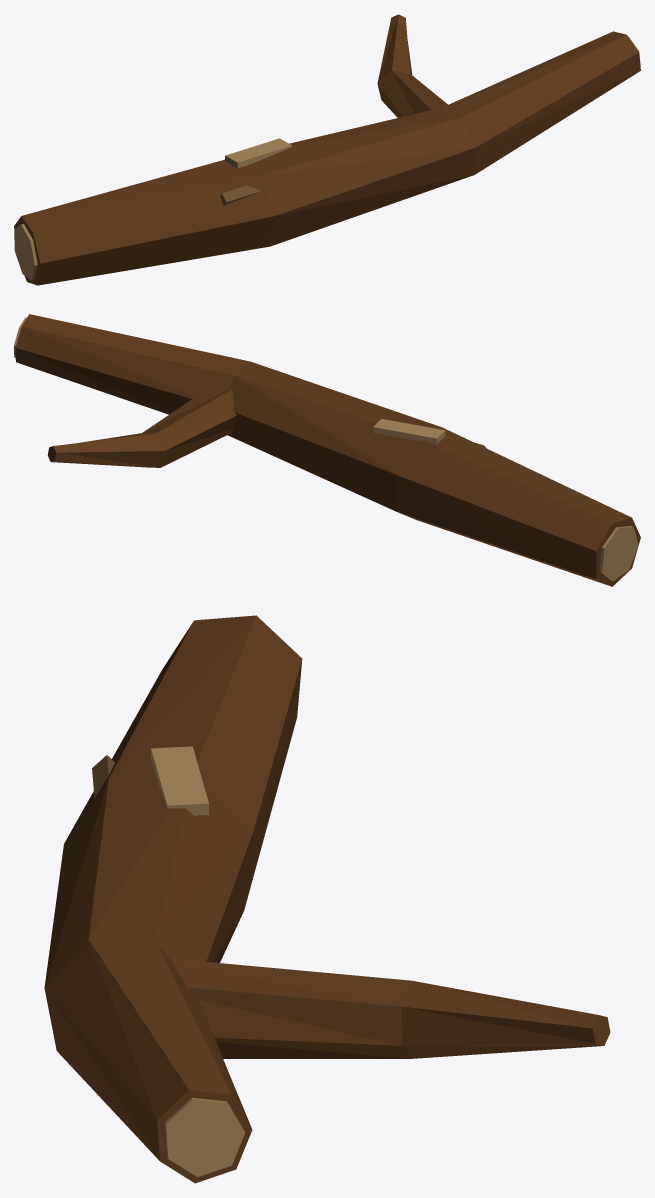
The model's file is item_stick_forked.glb.
3 renders of one model, top to bottom at view 1: azimuth 30°, elevation 25°; view 2: azimuth 150°, elevation 25°; view 3: azimuth 270°, elevation 25°, orthographic. The views are drawn at different scales.
Visible parts, largest first — view 1: item_stick_forked; view 2: item_stick_forked; view 3: item_stick_forked.
Boxes of the visible parts, left/top/right/bottom form: item_stick_forked: left=14, top=14, right=640, bottom=285; item_stick_forked: left=14, top=314, right=640, bottom=586; item_stick_forked: left=44, top=615, right=610, bottom=1183.
Bounding box in the file's own units: 0.6646 × 0.1205 × 0.2699.
